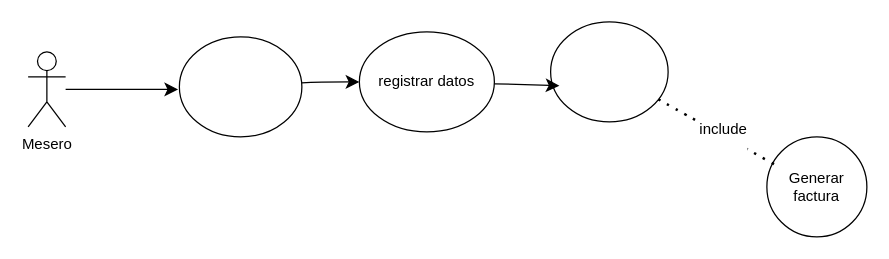
This 889x259 diagram has some shape labels left out. The centre of each missing label's shape, as x and y in pixels:
"Enviar datos" goes at pixel 608 71.
"Tomar order" goes at pixel 240 86.
